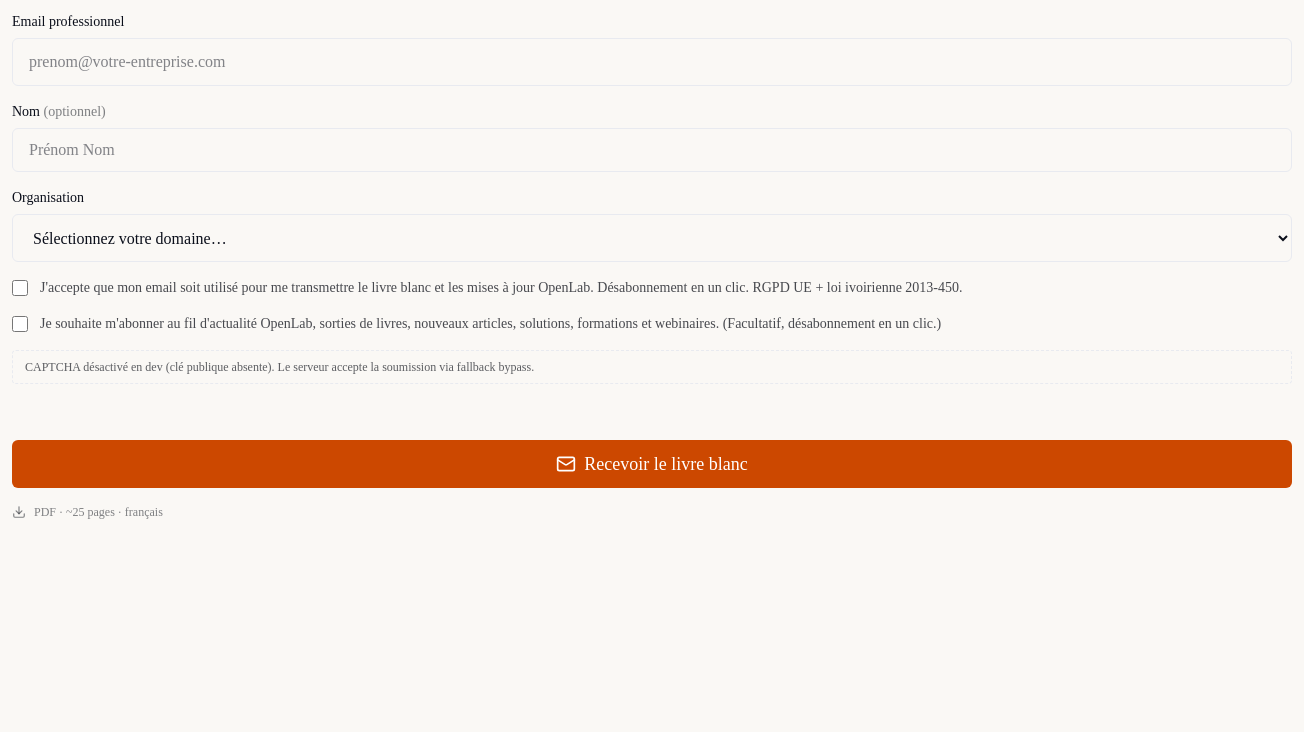
Test: WhitepaperRequestForm › affiche message spécifique sur captcha_failed (400)
Type "cto@banque-atlantique.ci" into the field labelled "Email professionnel" at {"x": 652, "y": 62}, box [12,38,1292,86]
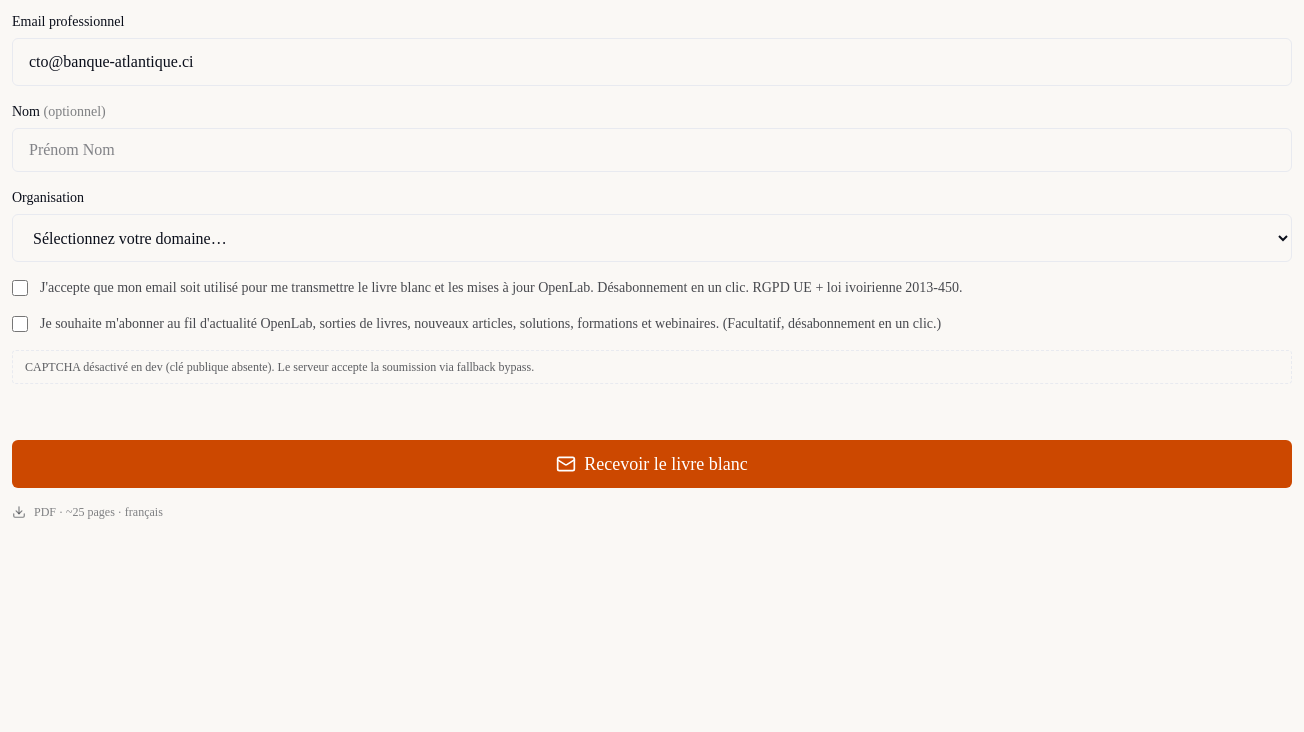
Click the checkbox labelled "accepte" at {"x": 20, "y": 288}, box [12,280,28,296]
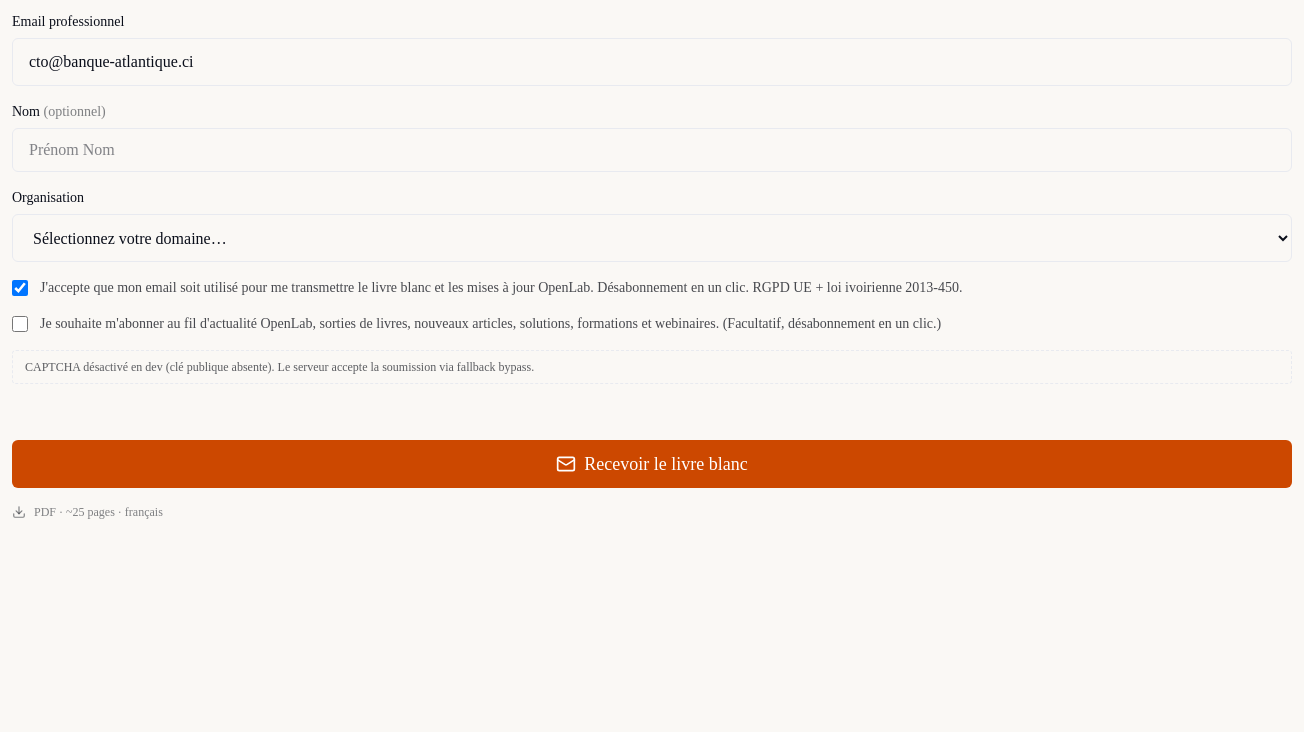
Submit the form named "Recevoir le livre blanc"
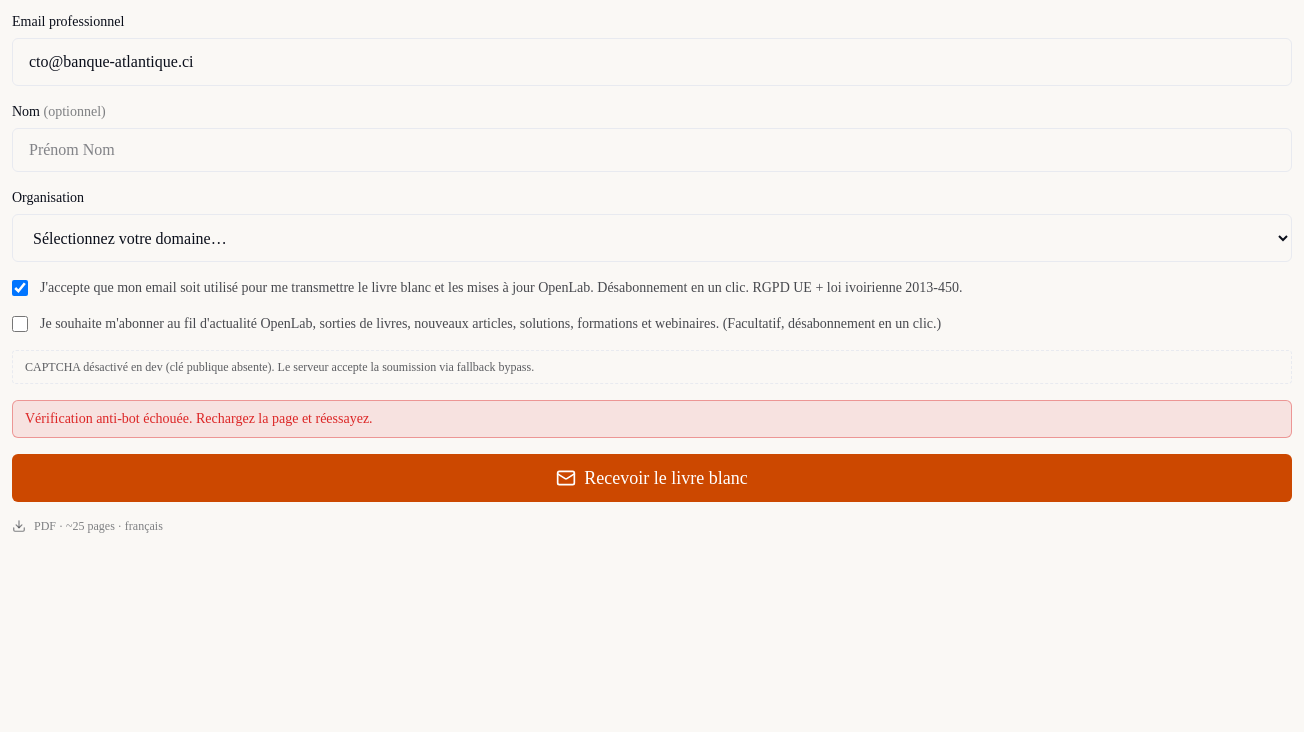
Now the text "Vérification anti-bot échouée" is shown, box [25,411,373,426]
